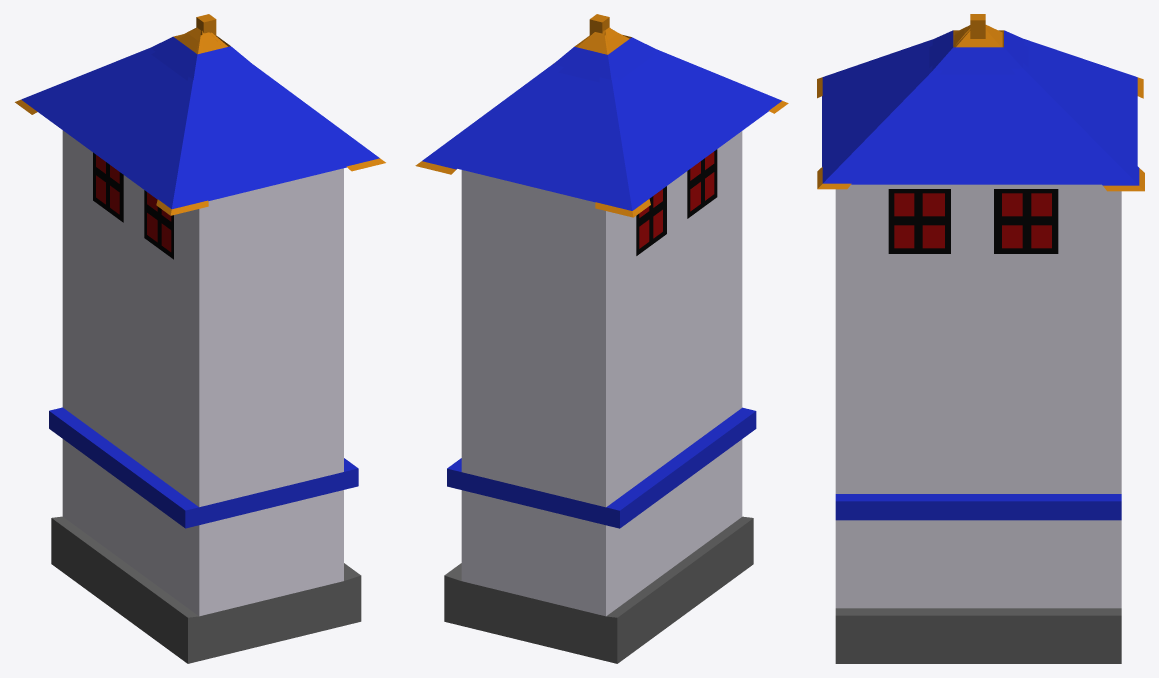
File: complete_hittites_tower.fbx
3 views of the same model, side by side, from view 1: azimuth 30°, elevation 25°; view 2: azimuth 150°, elevation 25°; view 3: azimuth 270°, elevation 25° (orthographic). The views are drawn at different scales.
Parts seen in each view (by area): view 1: Cube, Cube.002; view 2: Cube, Cube.002; view 3: Cube, Cube.002.
Part boxes in pixels (x1,y1,x2,y2): Cube: (49, 130, 361, 663); Cube.002: (15, 27, 385, 215); Cube: (444, 131, 756, 663); Cube.002: (415, 27, 788, 217); Cube: (835, 184, 1121, 663); Cube.002: (817, 25, 1144, 191).
Bounding box in the file's own units: 331 × 835 × 412.
